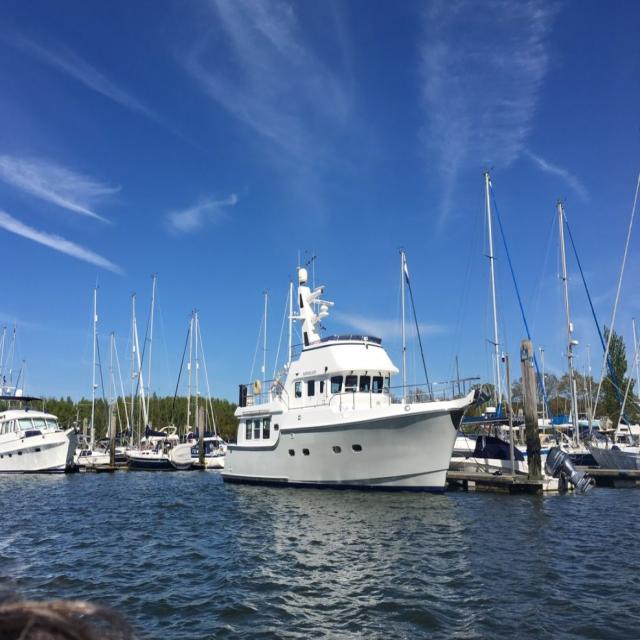houseboat: (208, 310, 464, 489), (0, 381, 81, 476)
